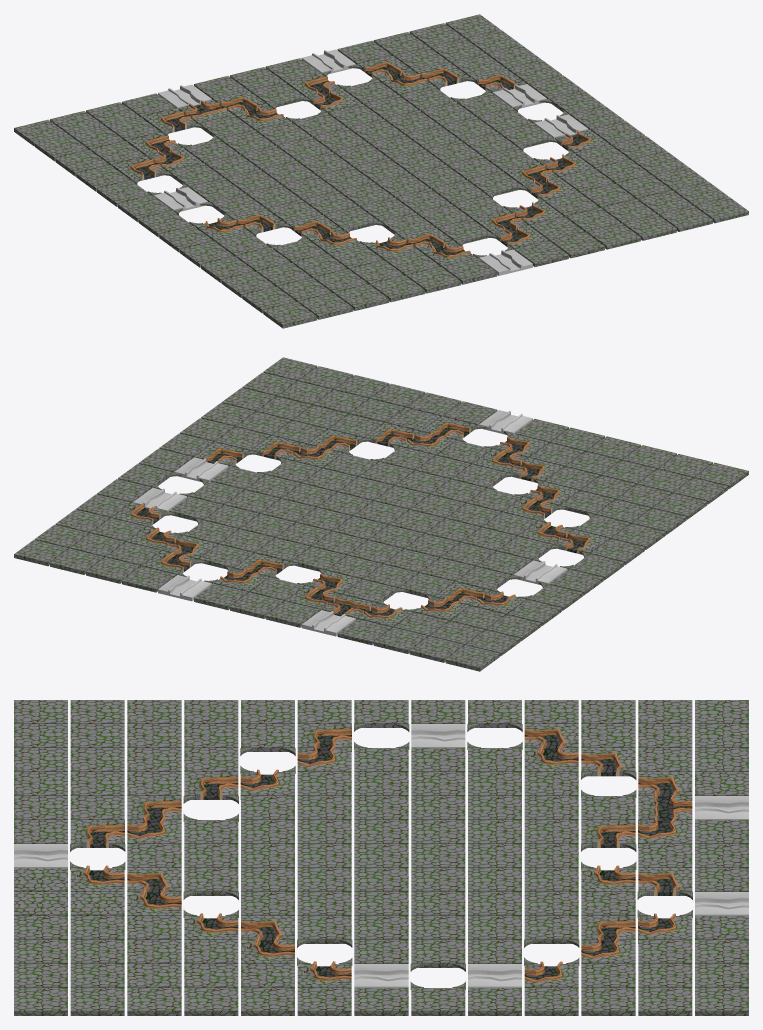
The model's file is FullPuzzle 1.fbx.
3 views of the same model, one above another, from view 1: azimuth 30°, elevation 25°; view 2: azimuth 150°, elevation 25°; view 3: azimuth 270°, elevation 25° (orthographic). The views are drawn at different scales.
Visible parts, largest first — view 1: Blank_123, L_Shape_25, Straight_4, Corners_11, L_Shape, T_Shape; view 2: Blank_123, L_Shape_25, Straight_4, Corners_11, L_Shape, T_Shape; view 3: Blank_123, L_Shape_25, Straight_4, Corners_11, T_Shape, L_Shape.
Part boxes in pixels (box(x1,y1,x2,y2)): Blank_123: box(14, 14, 748, 328); L_Shape_25: box(112, 56, 593, 267); Straight_4: box(153, 49, 588, 275); Corners_11: box(132, 64, 573, 258); L_Shape: box(555, 129, 609, 154); T_Shape: box(178, 100, 232, 123); Blank_123: box(14, 357, 748, 671); L_Shape_25: box(112, 416, 608, 628); Straight_4: box(133, 410, 567, 636); Corners_11: box(147, 425, 594, 612); L_Shape: box(195, 442, 249, 466); T_Shape: box(322, 595, 376, 619); Blank_123: box(14, 700, 748, 1015); L_Shape_25: box(70, 724, 692, 987); Straight_4: box(14, 724, 748, 987); Corners_11: box(70, 724, 692, 989); T_Shape: box(638, 793, 692, 822); L_Shape: box(297, 961, 351, 987).
Bounding box in the file's own units: 2720 × 34.42 × 2720.
